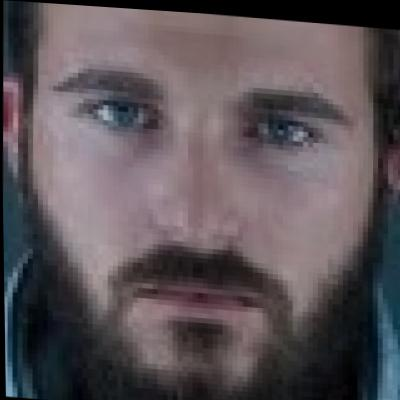netural: (32, 2, 378, 394)
